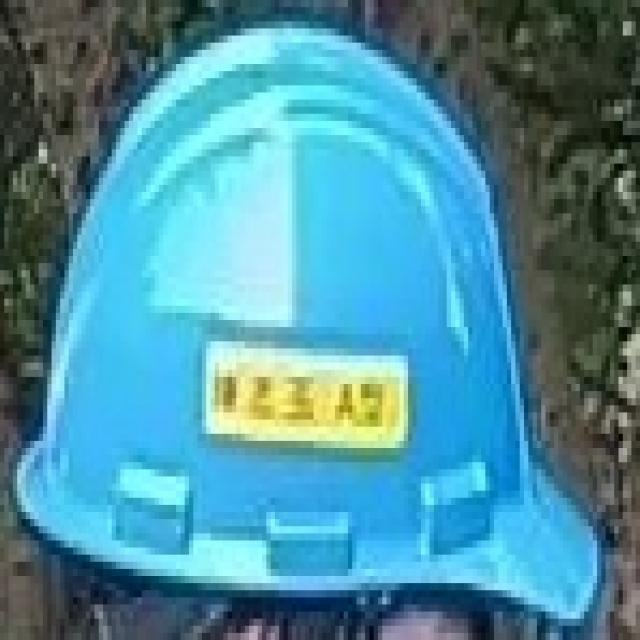helmet: (19, 29, 595, 619)
